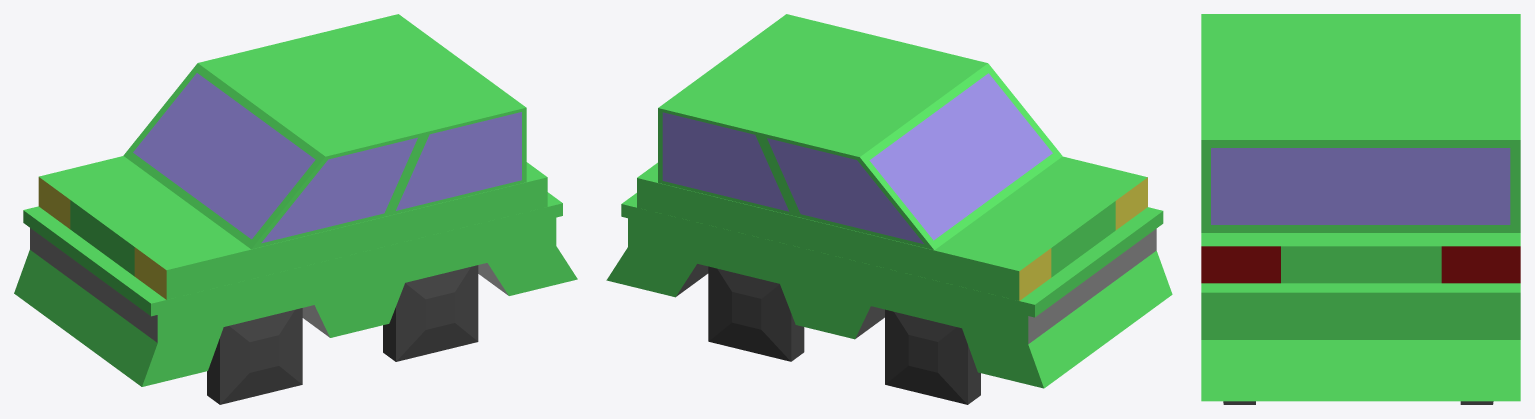
The model's file is car_green.glb.
3 renders of one model, left to right at view 1: azimuth 30°, elevation 25°; view 2: azimuth 150°, elevation 25°; view 3: azimuth 270°, elevation 25°, orthographic. The views are drawn at different scales.
Visible parts, largest first — view 1: Top, Chassis, Doors, Middle, Tire1.003, Tire1.001; view 2: Top, Chassis, Doors, Middle, Tire1.002, Tire1; view 3: Top, Chassis, Doors, Middle.
Part boxes in pixels (left/top/right/bottom): Top: left=123, top=14, right=526, bottom=249; Chassis: left=14, top=217, right=577, bottom=386; Doors: left=38, top=156, right=547, bottom=299; Middle: left=23, top=192, right=562, bottom=316; Tire1.003: left=207, top=308, right=302, bottom=404; Tire1.001: left=383, top=265, right=478, bottom=361; Top: left=658, top=14, right=1062, bottom=250; Chassis: left=606, top=218, right=1172, bottom=388; Doors: left=637, top=156, right=1147, bottom=300; Middle: left=621, top=193, right=1163, bottom=317; Tire1.002: left=885, top=309, right=980, bottom=404; Tire1: left=708, top=266, right=804, bottom=361; Top: left=1201, top=17, right=1520, bottom=232; Chassis: left=1201, top=308, right=1520, bottom=401; Doors: left=1201, top=14, right=1520, bottom=283; Middle: left=1201, top=283, right=1520, bottom=308.
Size of the model in its own units: 10.57 by 5.36 by 5.37.
